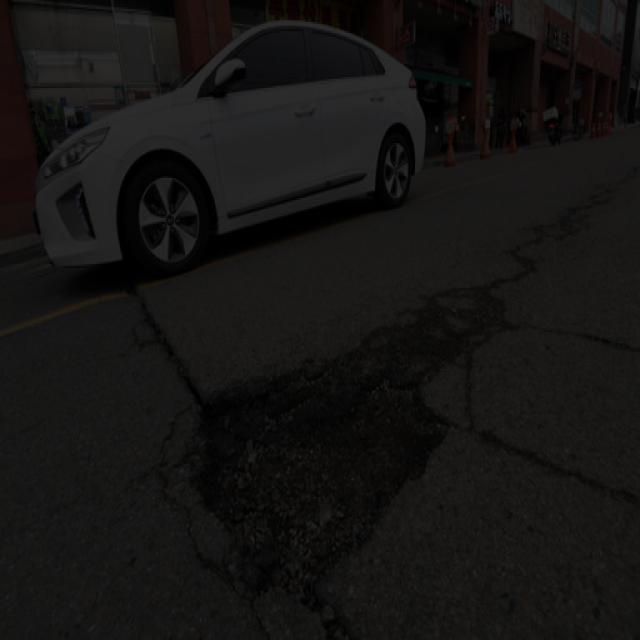pothole: (127, 300, 484, 624)
